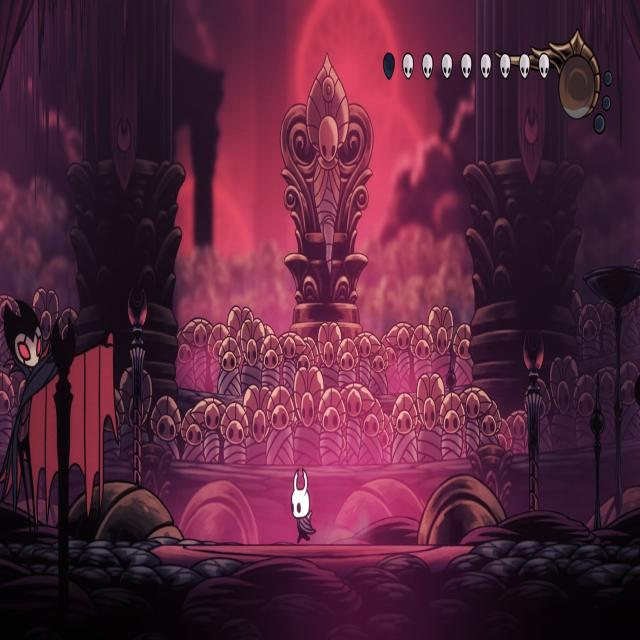Open Cloak: (1, 290, 118, 543)
Player: (288, 464, 314, 546)
